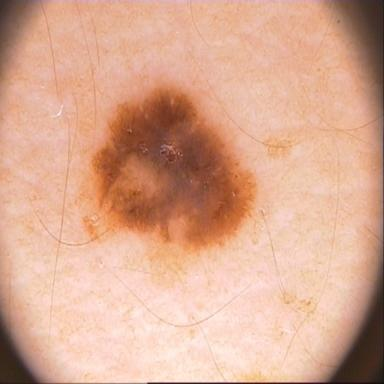nevus: (85, 89, 257, 285)
